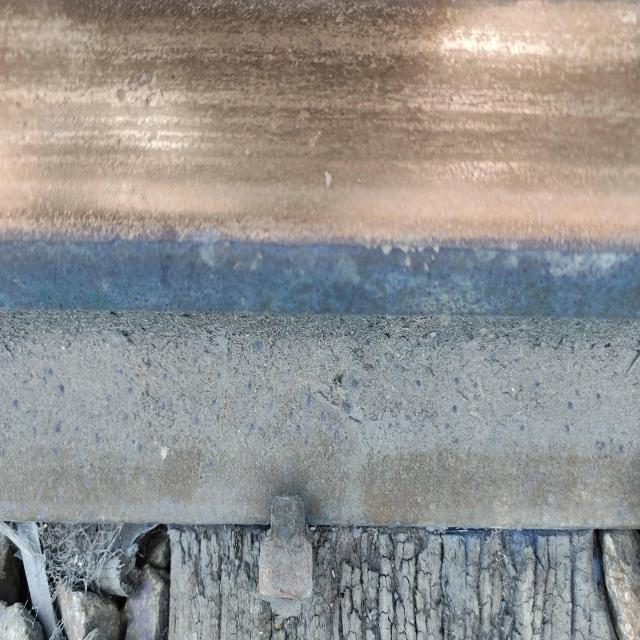Good Fasteners: (258, 496, 313, 616)
